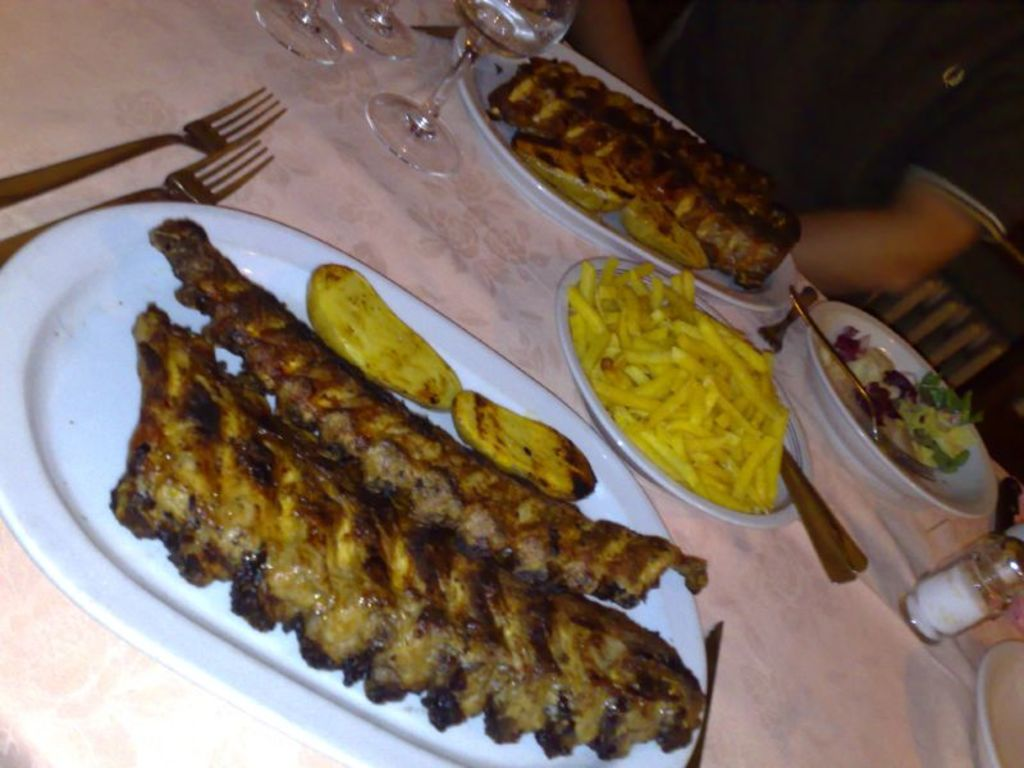French fries: (569, 261, 801, 504)
